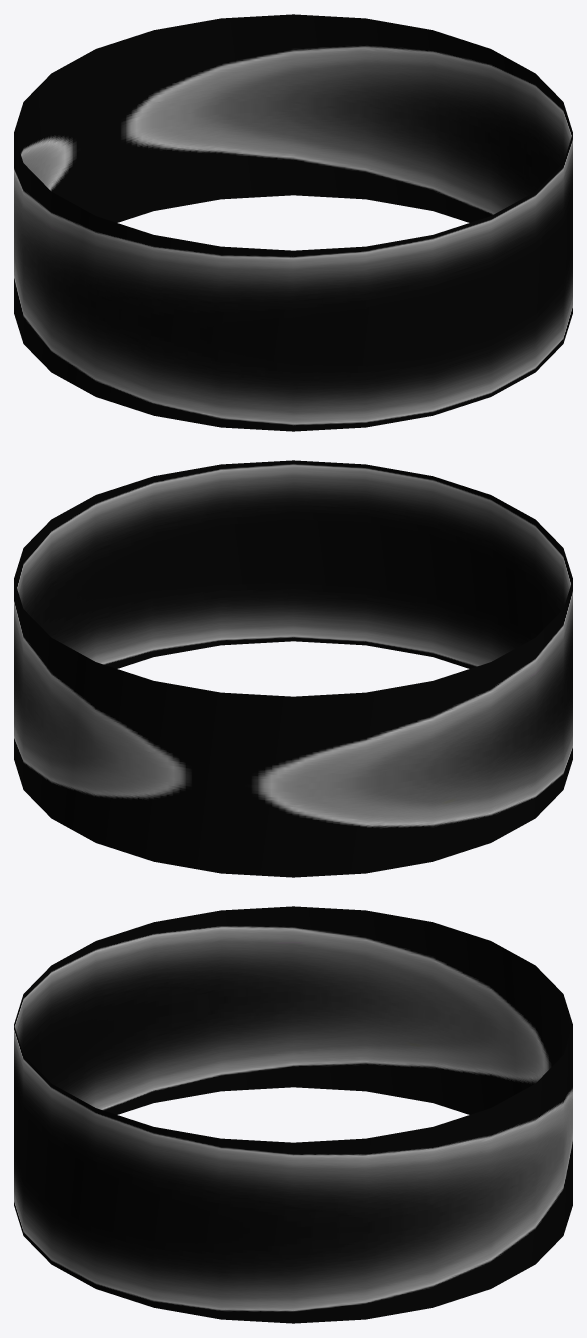
The model's file is 0243_caoxiyi_ring_z03.glb.
3 views of the same model, one above another, from view 1: azimuth 30°, elevation 25°; view 2: azimuth 150°, elevation 25°; view 3: azimuth 270°, elevation 25° (orthographic).
Bounding box in the file's own units: 2.2 × 0.7857 × 2.2.
Materials: 1 (1 with a texture image).
